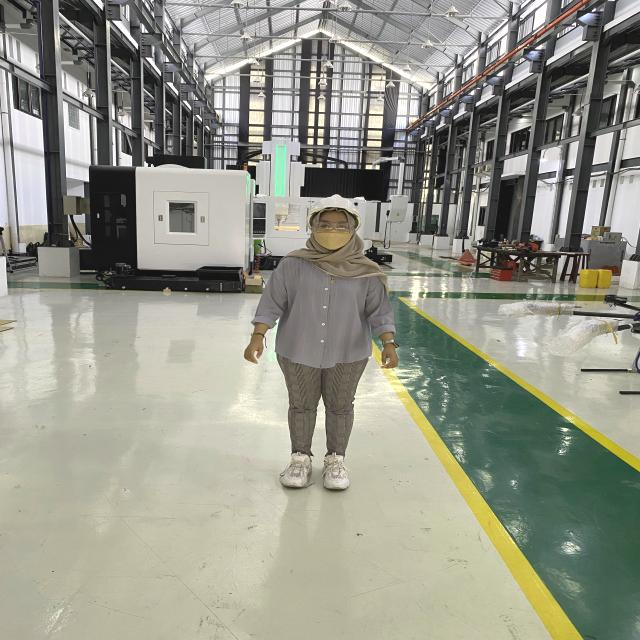face_mask: (311, 216, 354, 252)
glasses: (310, 218, 355, 232)
hand_noglove: (370, 342, 408, 371), (236, 337, 271, 365)
head_helmet: (307, 193, 364, 217)
person: (235, 191, 423, 499)
shoes: (275, 446, 315, 494), (317, 452, 360, 492)
